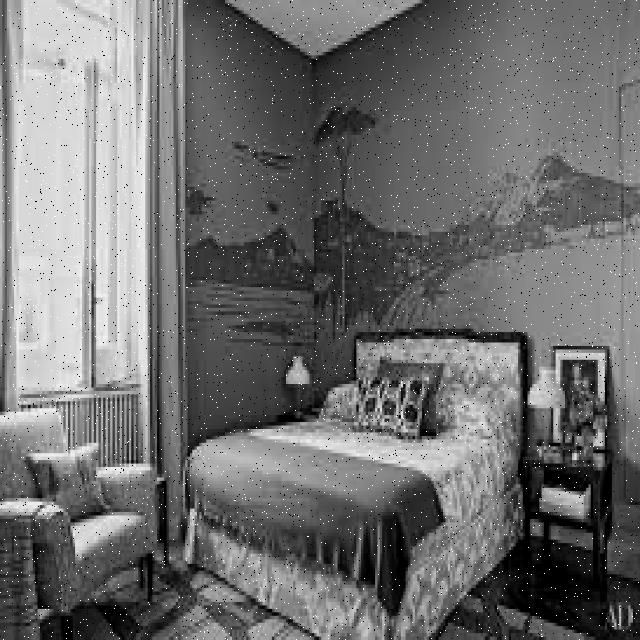bed: (183, 353, 523, 640)
